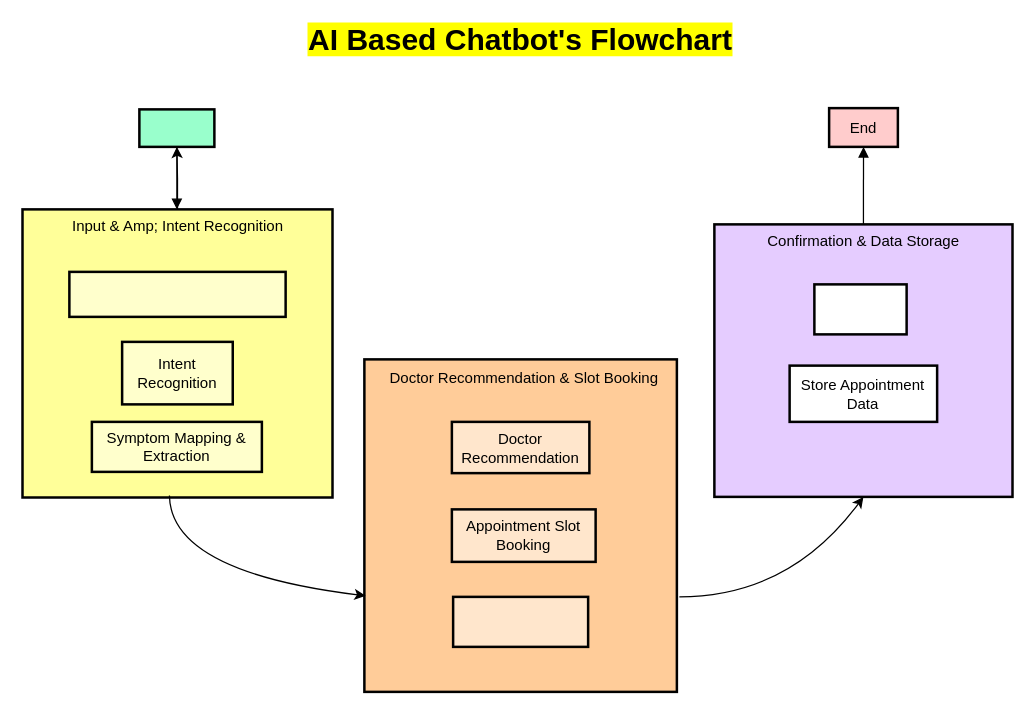
Some shapes in this 1035 by 714 pixel diagram are drawn without their labels. Each missing label, with the centre of its shape:
"Confirmation" goes at (859,308).
"Fetch Available Slots" goes at (520,621).
"Patient Input via Chatbot" goes at (177,294).
"Start" goes at (176,128).
